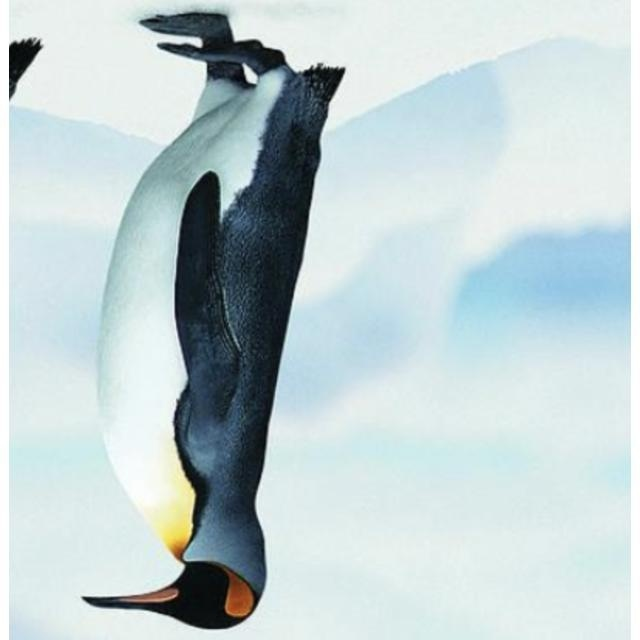penguin: (80, 8, 345, 632)
